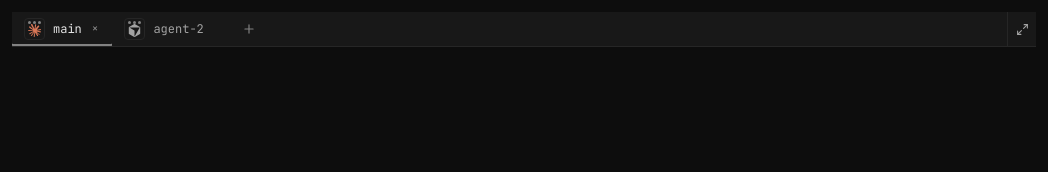
Test: TabsStrip › 2.T5 — long-press (touch pointerdown held 500ms) opens the reset menu
Press the mouse on the tab "agent-2" at (173, 30), box [112,12,234,47]
Wait 500 ms
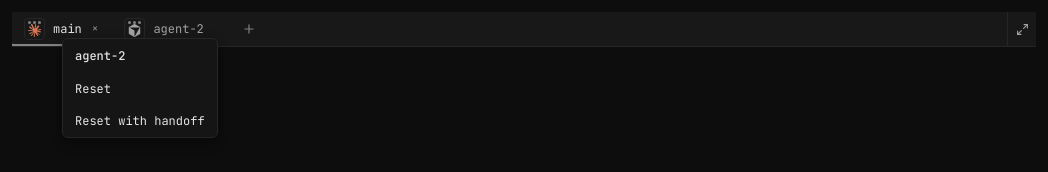
Now the menu item "Reset" is shown, box [63,73,217,105]
